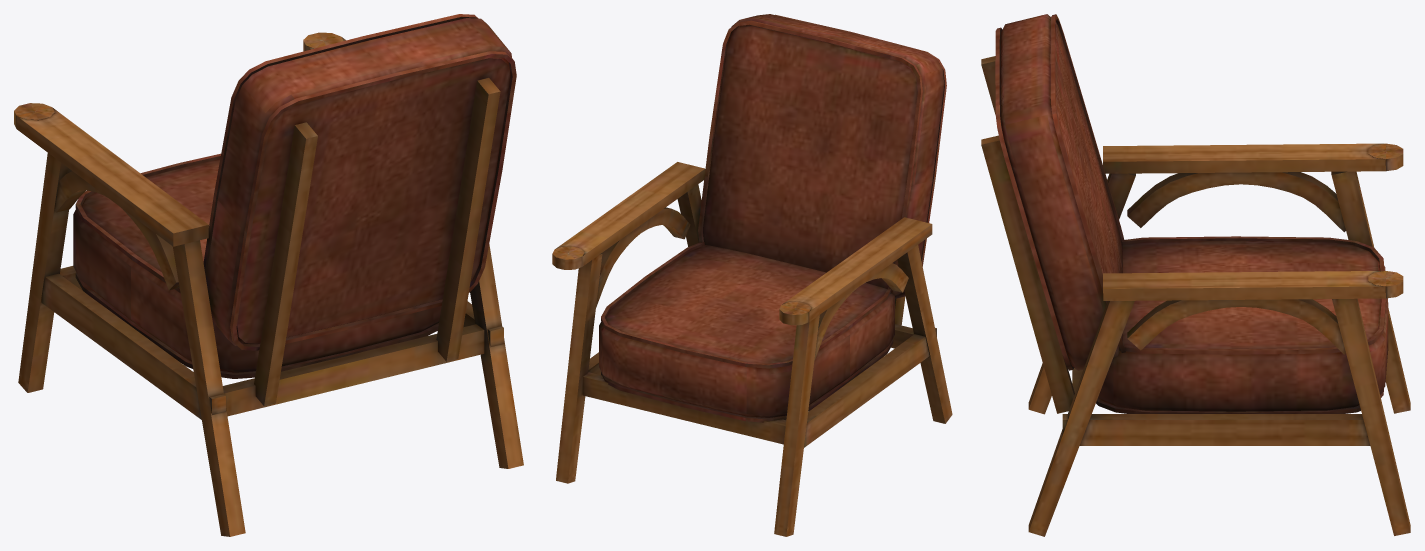
The model's file is armchair_box_lod1_web.glb.
The picture shows the model from 3 angles, left to right: view 1: azimuth 30°, elevation 25°; view 2: azimuth 150°, elevation 25°; view 3: azimuth 270°, elevation 25°; orthographic projection. The views are drawn at different scales.
Visible parts, largest first — view 1: ArmchairBox_Body; view 2: ArmchairBox_Body; view 3: ArmchairBox_Body.
Boxes of the visible parts, <box> form: ArmchairBox_Body: <box>14,14,523,536</box>; ArmchairBox_Body: <box>552,14,952,536</box>; ArmchairBox_Body: <box>981,14,1410,536</box>.
Bounding box in the file's own units: 0.712 × 0.9631 × 0.9044.
1 material, 1 textured.
